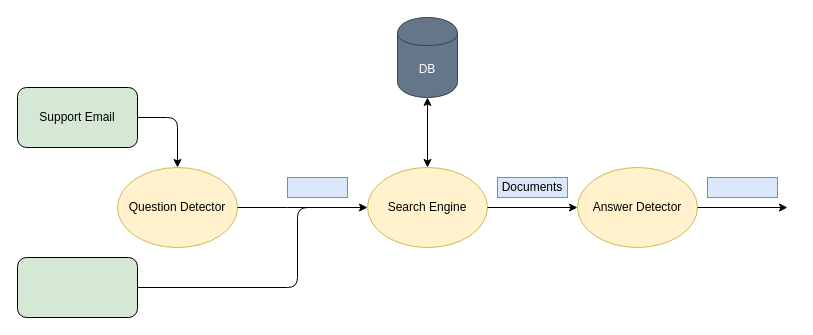
Some shapes in this 813 by 335 pixel diagram are drawn without their labels. Each missing label, with the centre of its shape:
Answer: the point at 742,187
Question: the point at 317,187
User Query: the point at 77,287
